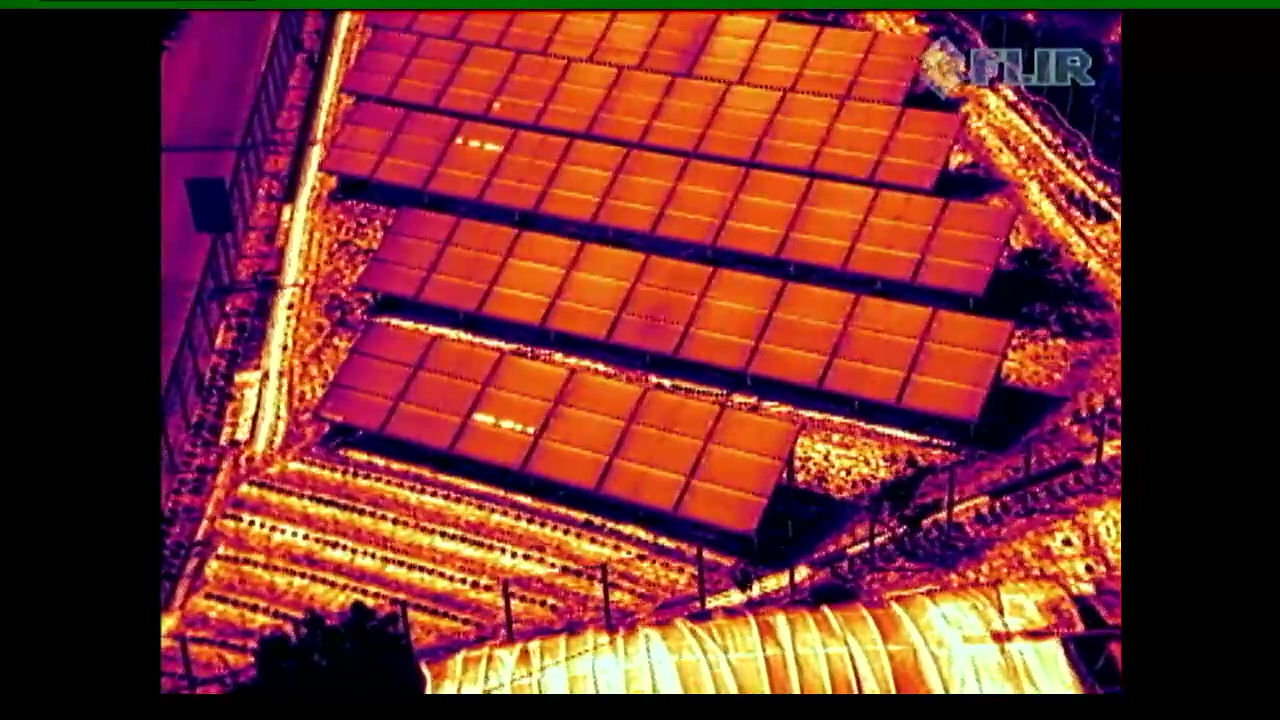hotspot: (451, 356, 570, 469), (427, 116, 513, 199), (485, 51, 576, 122)
